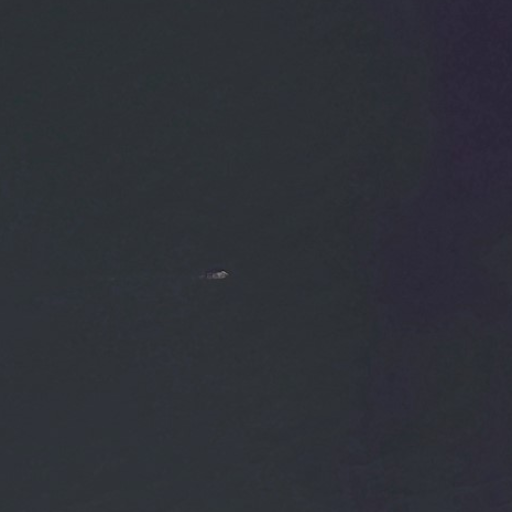ship: (200, 268, 231, 282)
